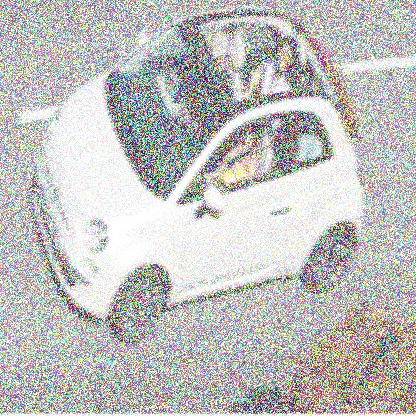Vehicle: (29, 9, 365, 347)
